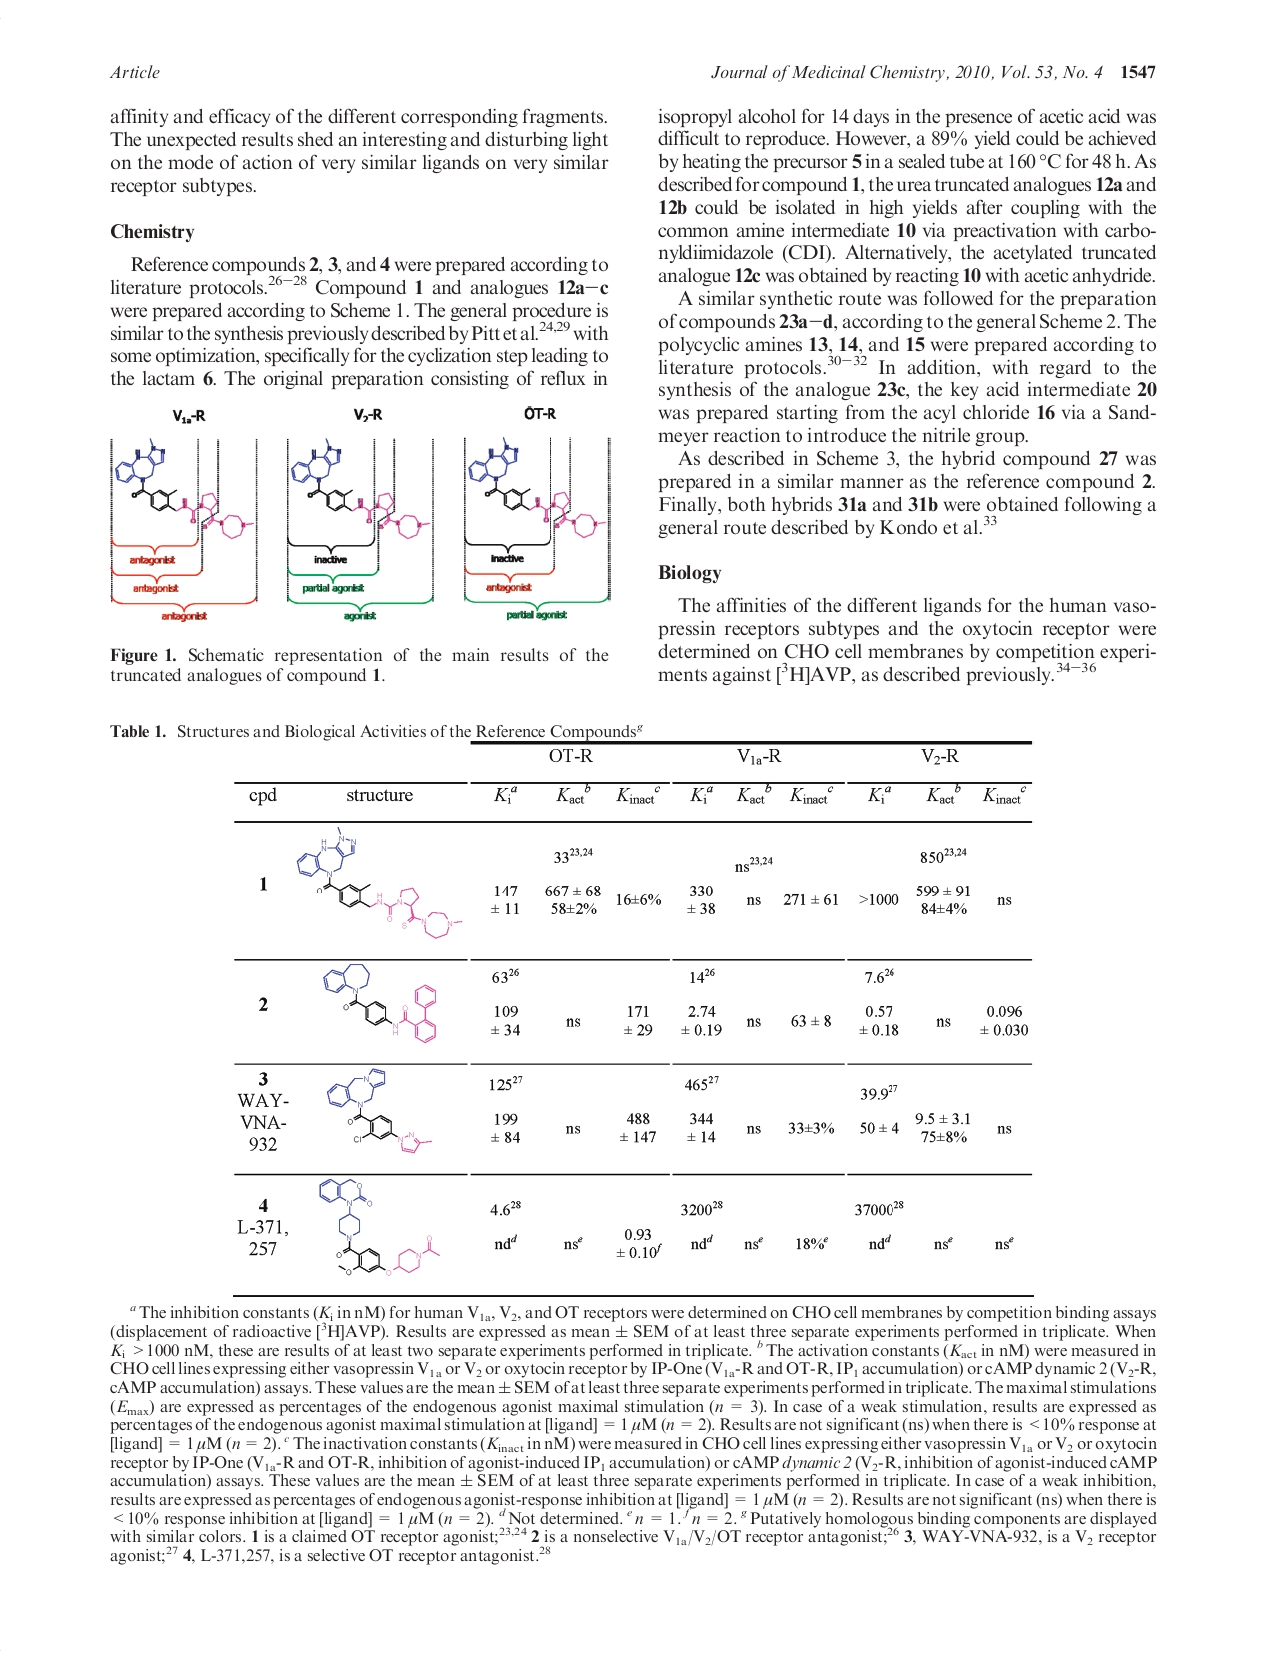exist_molecular: (295, 825, 464, 940), (465, 434, 608, 541), (289, 438, 430, 543), (116, 438, 254, 540), (316, 1176, 444, 1275), (324, 1067, 434, 1156), (323, 962, 438, 1045)
